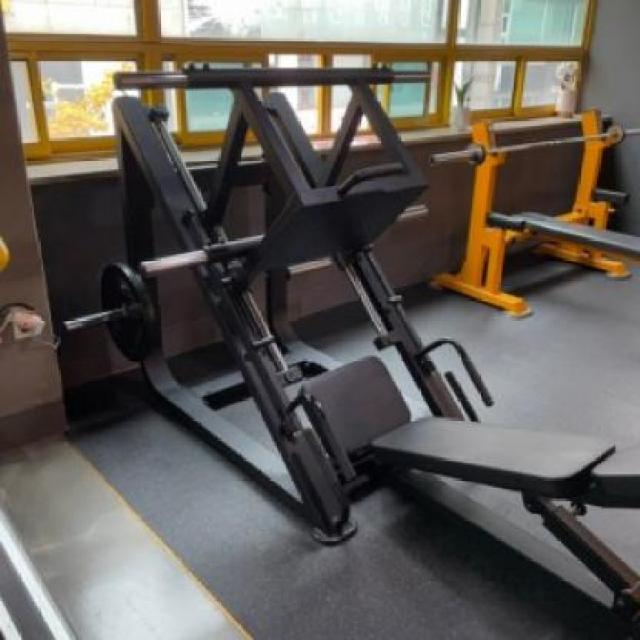leg press: (55, 43, 640, 640)
